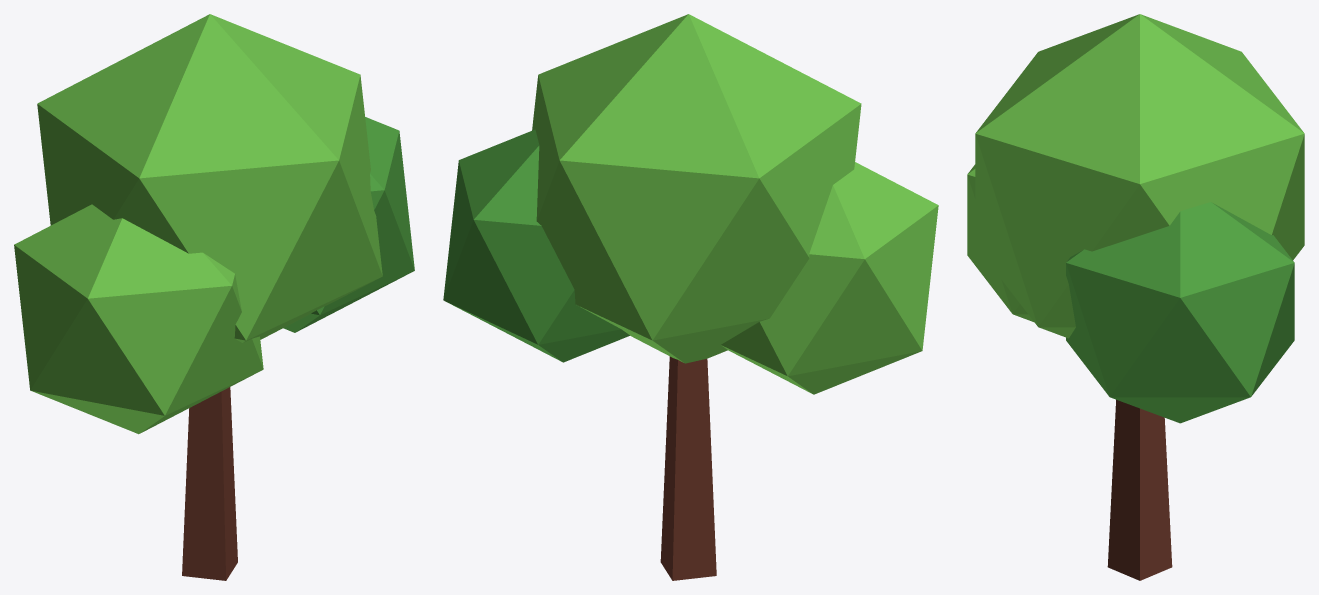
File: P_TreeGreen.fbx
3 renders of one model, left to right at view 1: azimuth 30°, elevation 25°; view 2: azimuth 150°, elevation 25°; view 3: azimuth 270°, elevation 25°, orthographic.
Visible parts, largest first — view 1: P_TreeGreen.012; view 2: P_TreeGreen.012; view 3: P_TreeGreen.012.
Boxes of the visible parts, x1,y1,x2,y2 form: P_TreeGreen.012: (14,14,414,580); P_TreeGreen.012: (443,14,938,580); P_TreeGreen.012: (967,14,1304,580).
Bounding box in the file's own units: 1.78 × 2.27 × 1.25.
